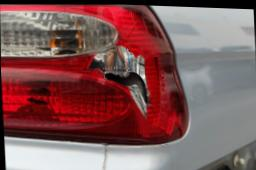Light: (69, 35, 155, 119)
